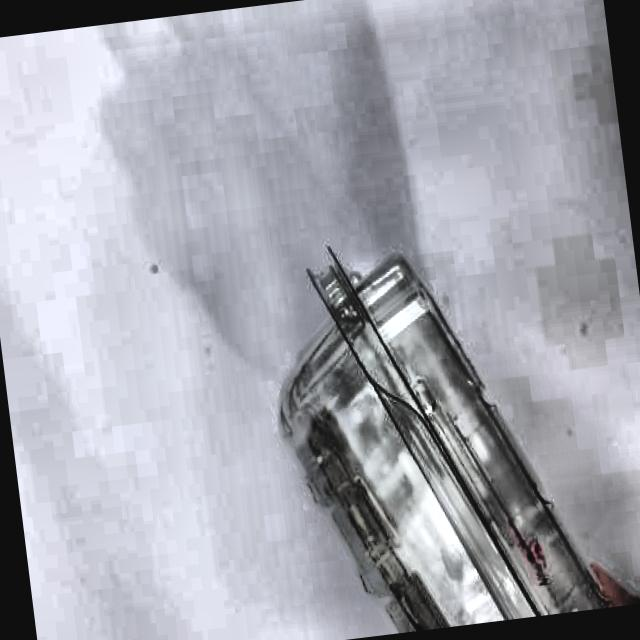plastic: (248, 222, 597, 640)
